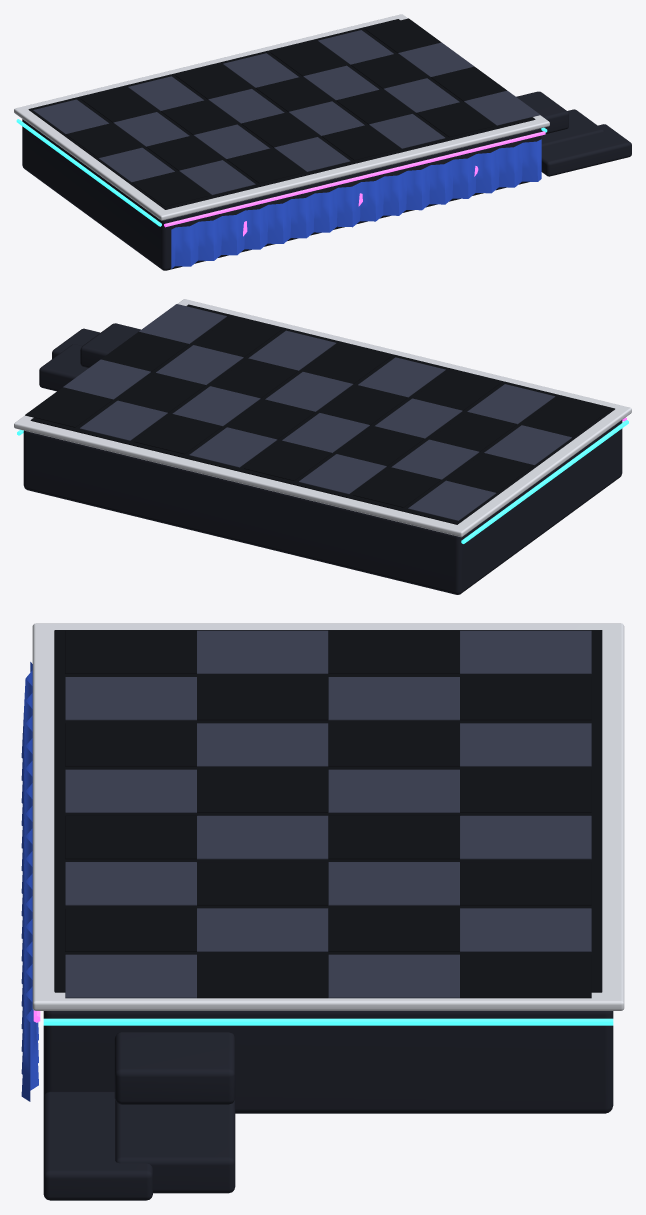
File: stage_platform_4m.glb
3 views of the same model, one above another, from view 1: azimuth 30°, elevation 25°; view 2: azimuth 150°, elevation 25°; view 3: azimuth 270°, elevation 25° (orthographic). The views are drawn at different scales.
Parts seen in each view (by area): view 1: stage_platform_4m; view 2: stage_platform_4m; view 3: stage_platform_4m.
Boxes of the visible parts, bbox=[...] form: stage_platform_4m: bbox=[14, 14, 631, 270]; stage_platform_4m: bbox=[14, 299, 631, 594]; stage_platform_4m: bbox=[21, 623, 624, 1200].
Bounding box in the file's own units: 5 × 0.615 × 2.75.
